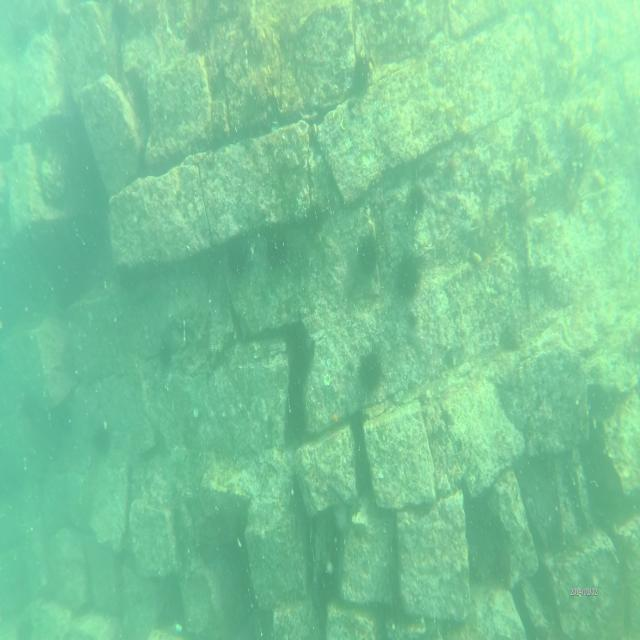echinus: (397, 248, 423, 298), (348, 57, 372, 103), (358, 351, 382, 392), (359, 236, 380, 276), (266, 233, 288, 270), (407, 185, 426, 226), (232, 243, 254, 278), (304, 202, 328, 234), (92, 427, 112, 453)
